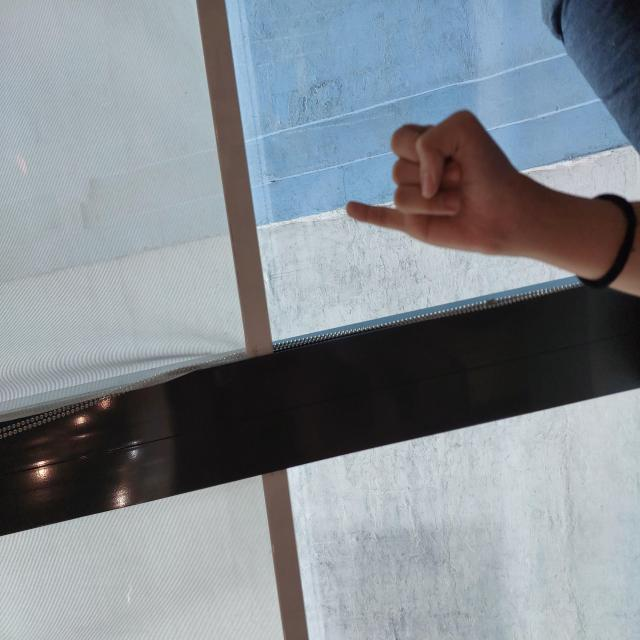I: (388, 345, 532, 506)
